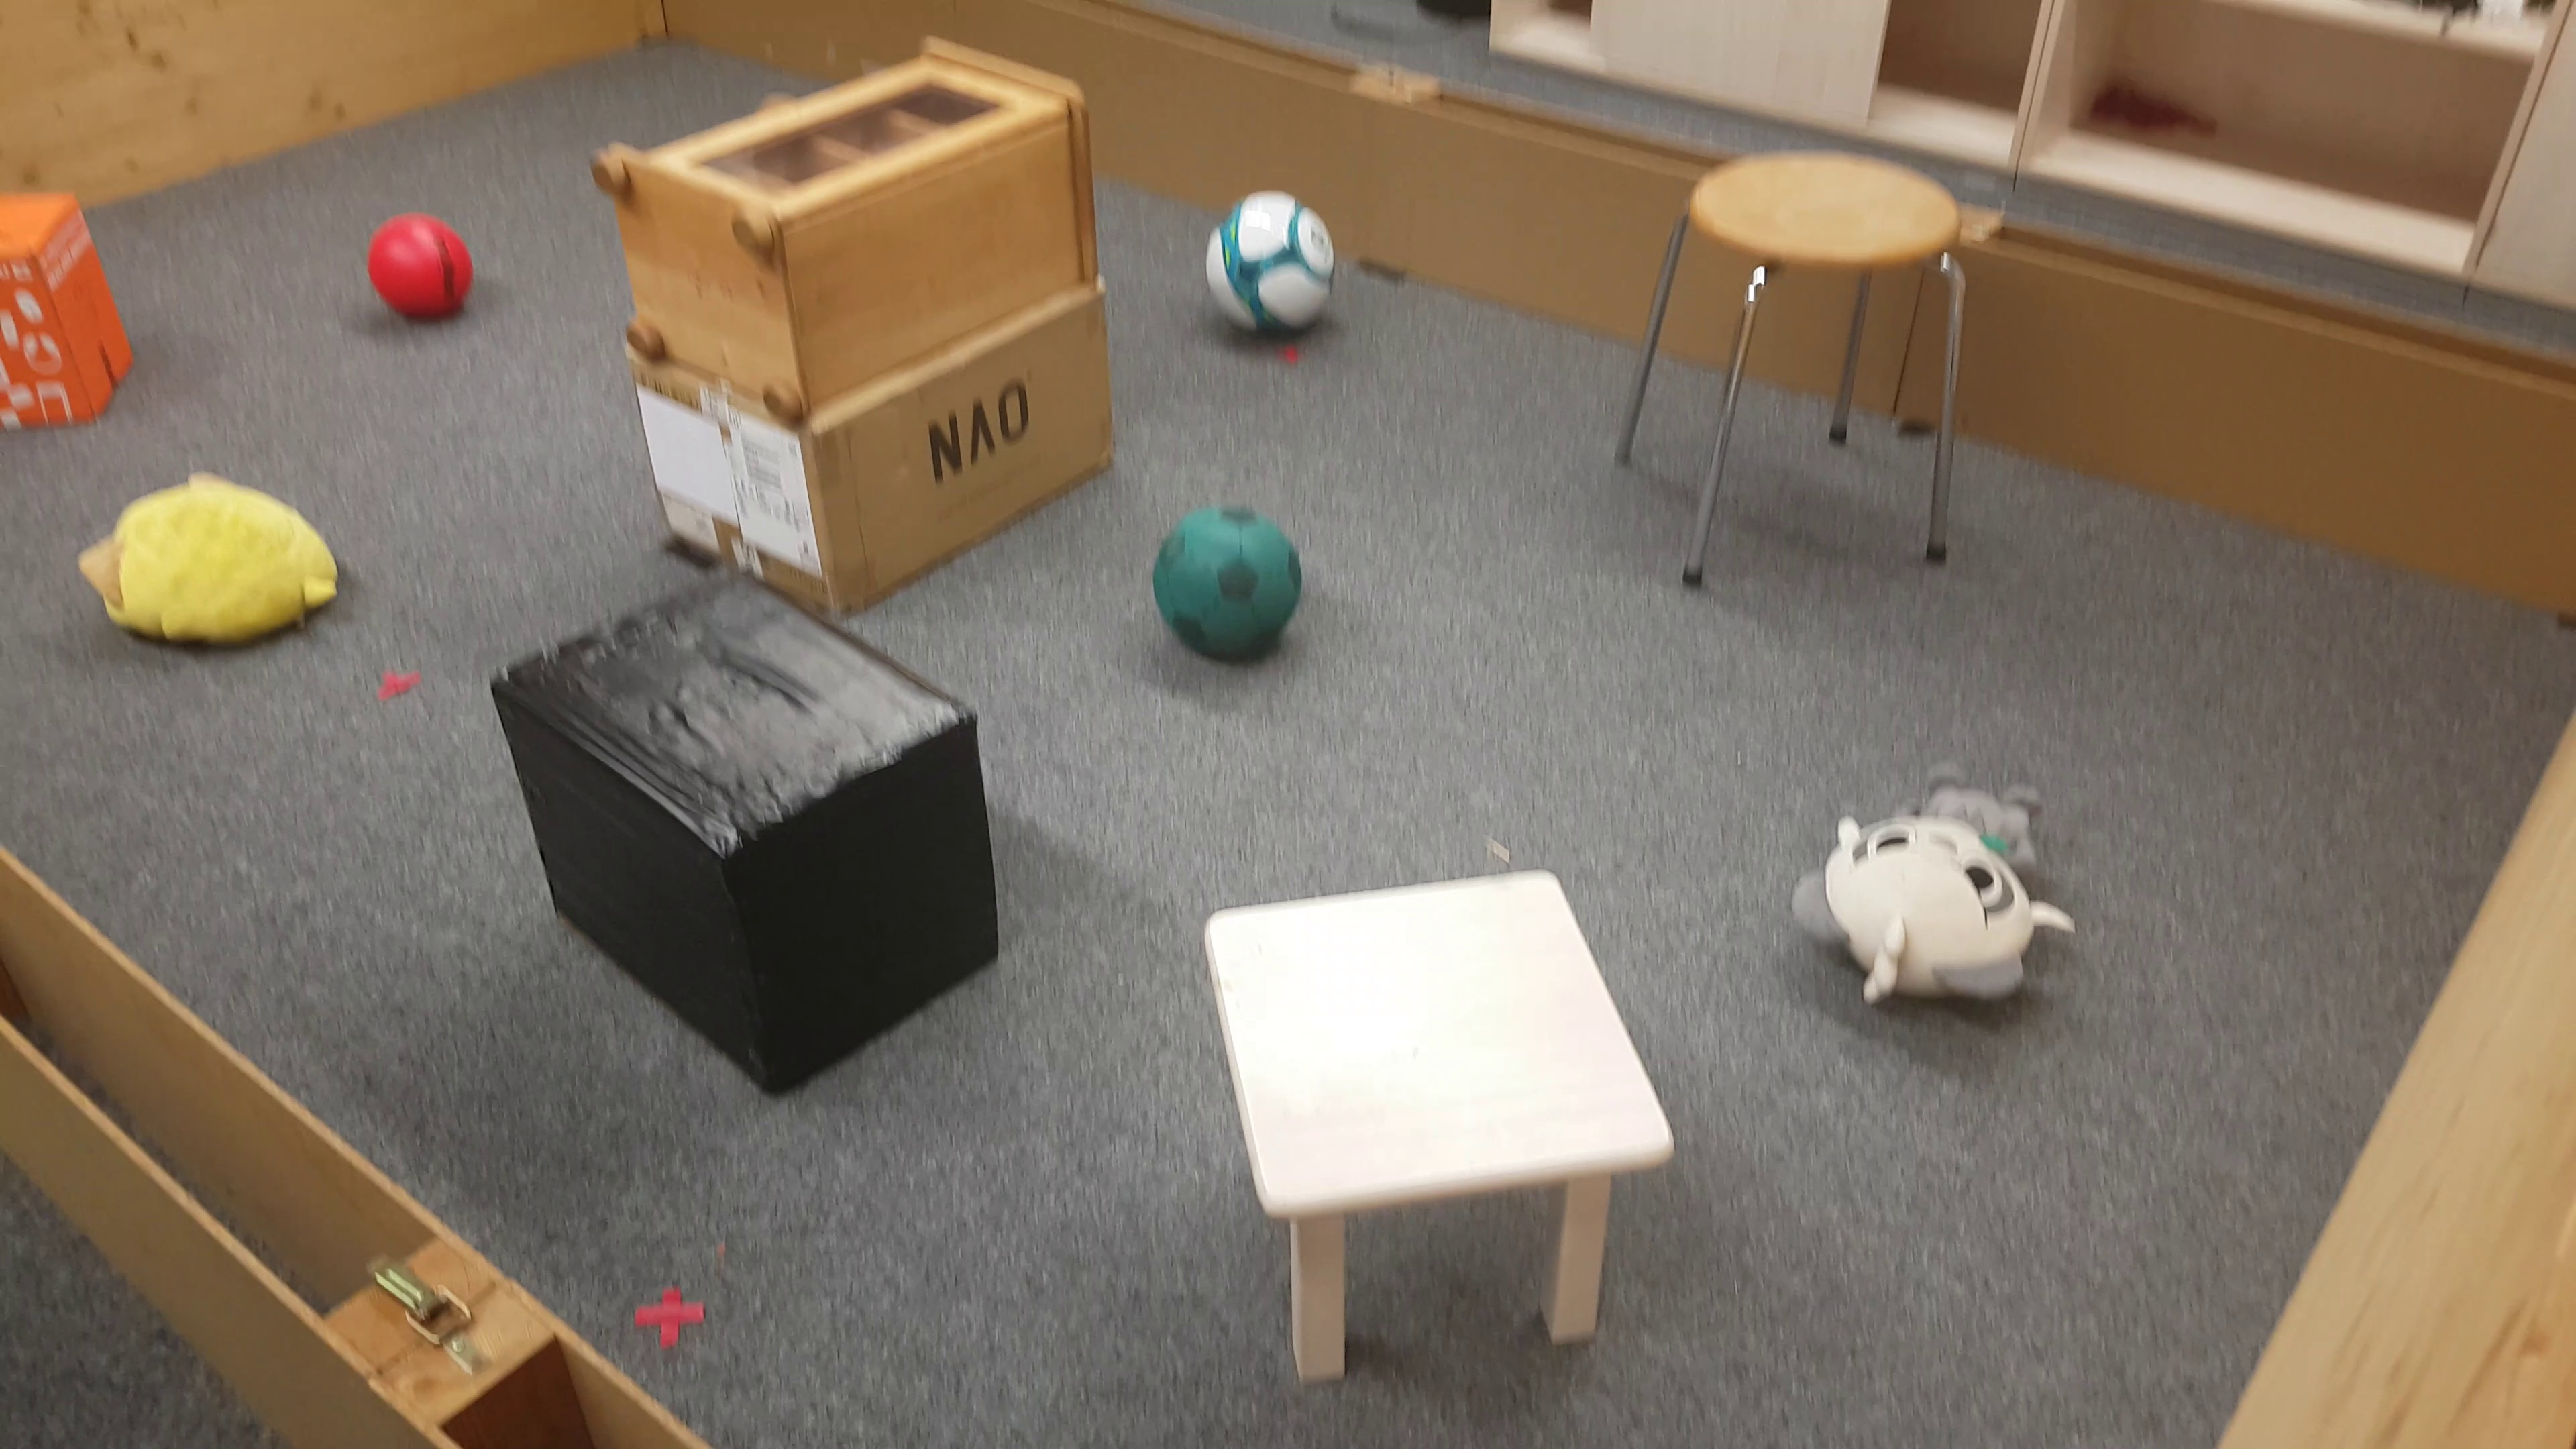grasp: (1789, 761, 2084, 1026), (74, 465, 356, 648)
kick: (1152, 513, 1307, 665), (1201, 189, 1339, 352), (361, 203, 485, 320)
push: (492, 561, 1003, 1093), (0, 189, 136, 441)
